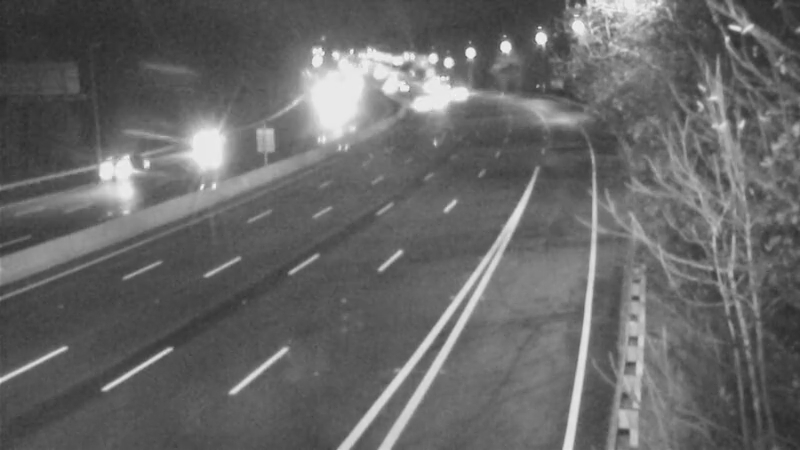vehicle: (73, 130, 153, 210), (433, 68, 483, 118), (394, 77, 444, 127), (181, 121, 231, 171)
